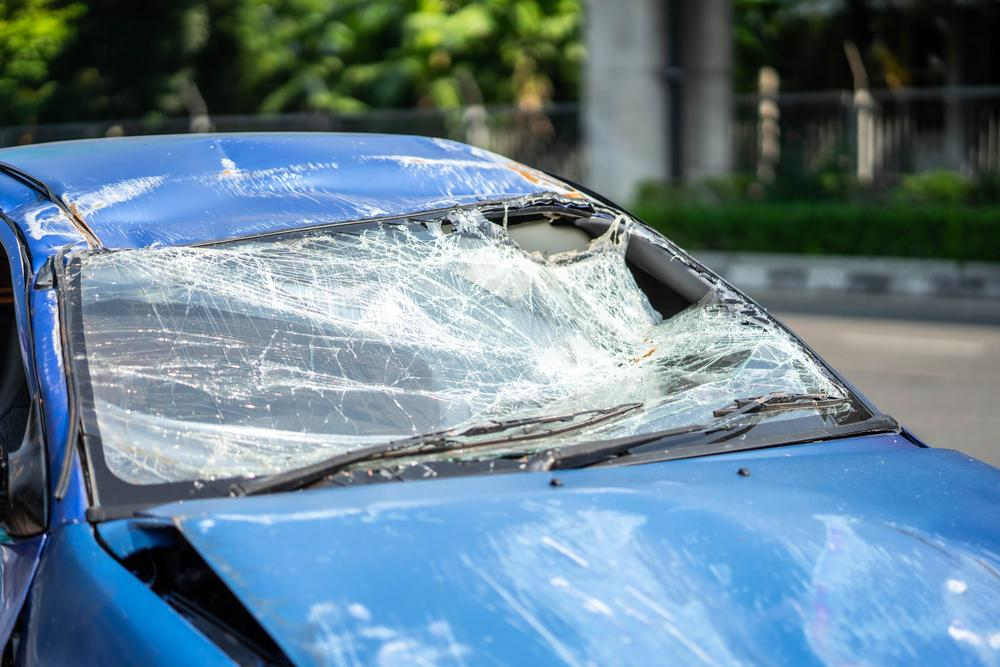glass shatter: (65, 197, 873, 506)
scratch: (306, 499, 1000, 667), (28, 133, 586, 260)
